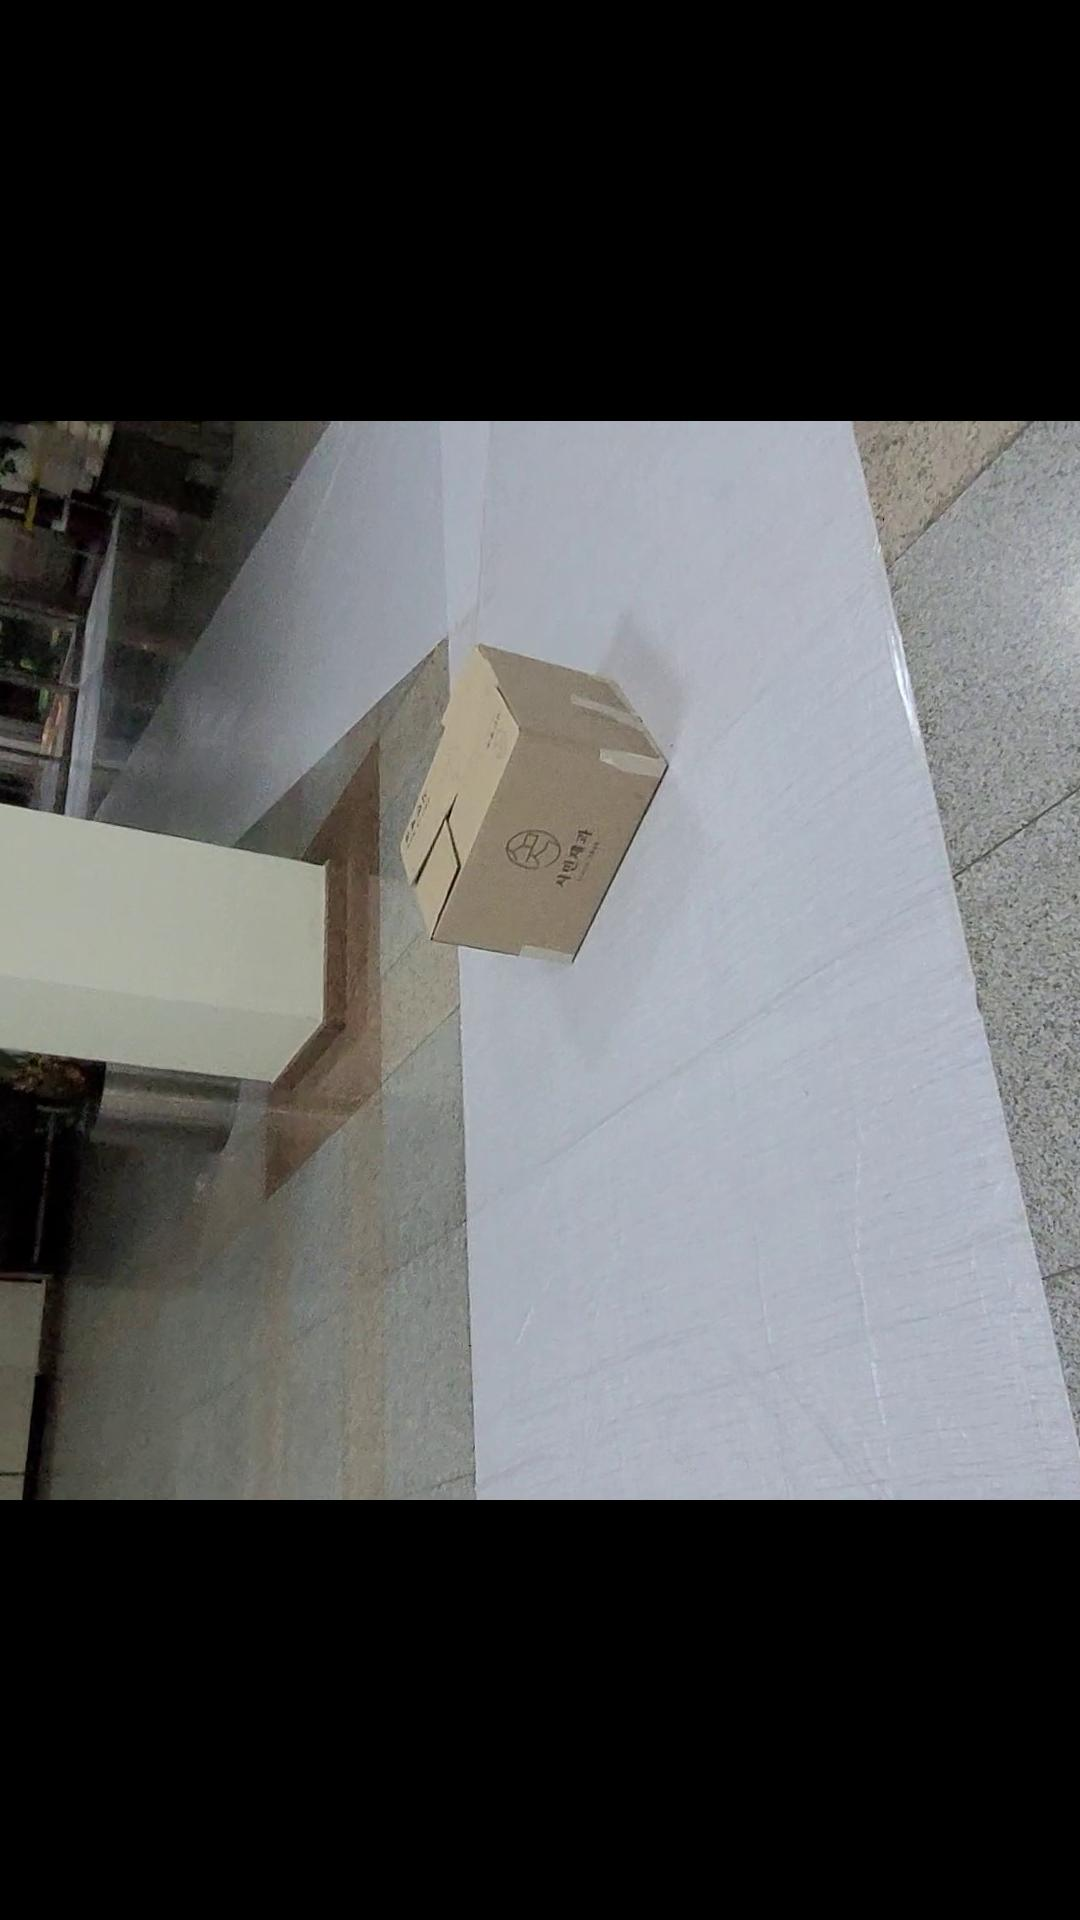Box: (338, 583, 684, 1025)
